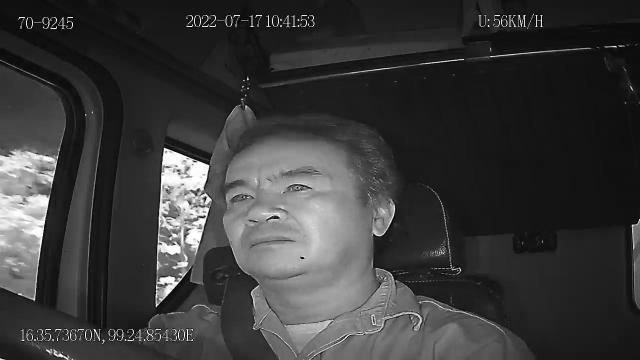SafeDriving: (278, 173, 322, 201), (222, 184, 260, 210)
Seatbelt: (219, 272, 281, 360)
